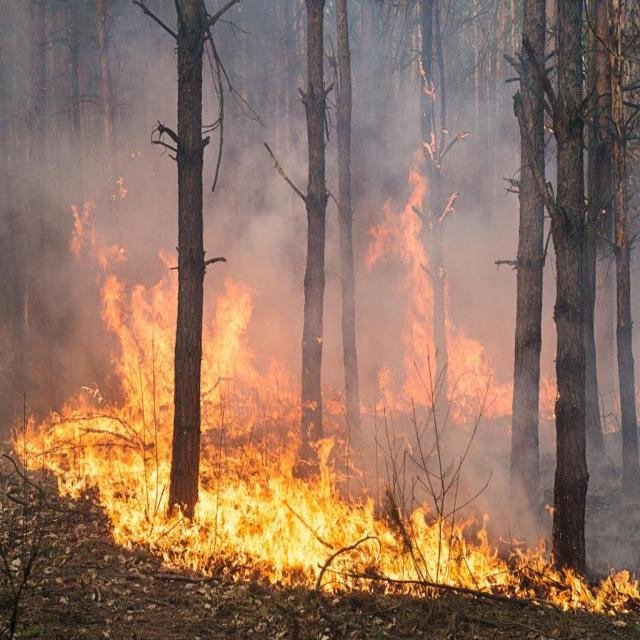fire: (198, 478, 376, 590), (105, 276, 176, 541), (383, 511, 512, 596), (19, 397, 103, 508), (521, 540, 640, 618), (205, 290, 255, 454), (401, 197, 436, 410), (450, 332, 495, 420)
smoke: (5, 136, 75, 378), (209, 126, 302, 263), (354, 17, 416, 156), (460, 147, 510, 315)
